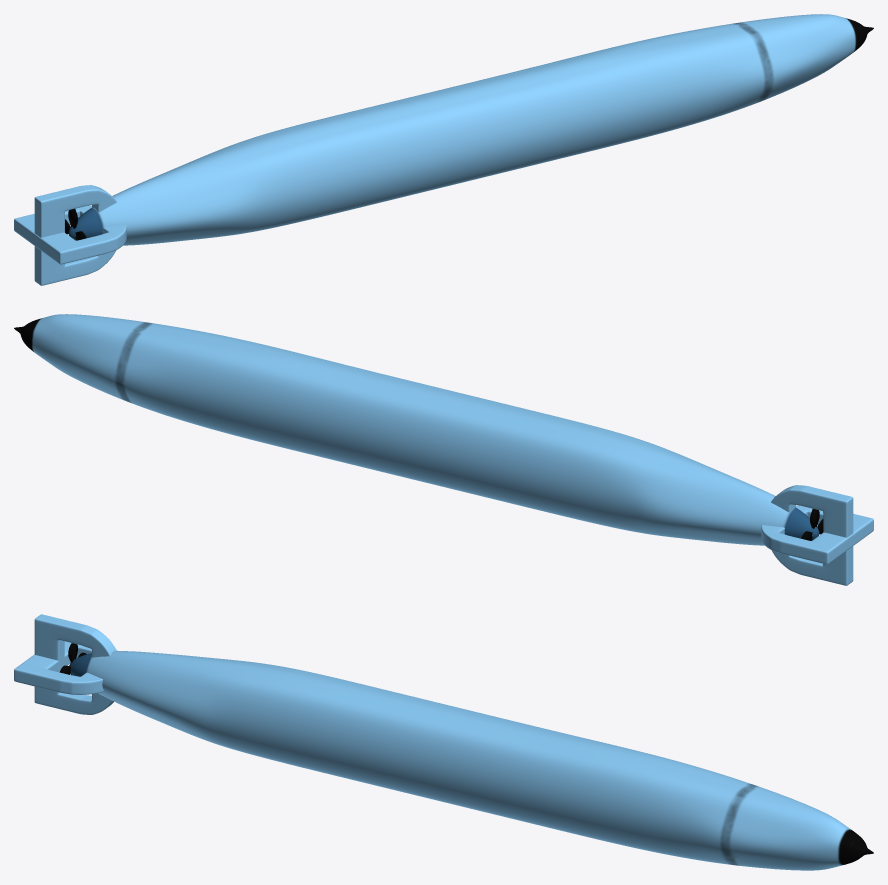
The model's file is torpedo.fbx.
3 renders of one model, top to bottom at view 1: azimuth 30°, elevation 25°; view 2: azimuth 150°, elevation 25°; view 3: azimuth 330°, elevation 25°, orthographic.
Parts seen in each view (by area): view 1: Plane.005; view 2: Plane.005; view 3: Plane.005.
Part boxes in pixels (box(x1,y1,x2,y2)): Plane.005: box(14, 14, 873, 285); Plane.005: box(14, 314, 873, 585); Plane.005: box(14, 614, 873, 870).
Bounding box in the file's own units: 420 × 42.83 × 40.62.
